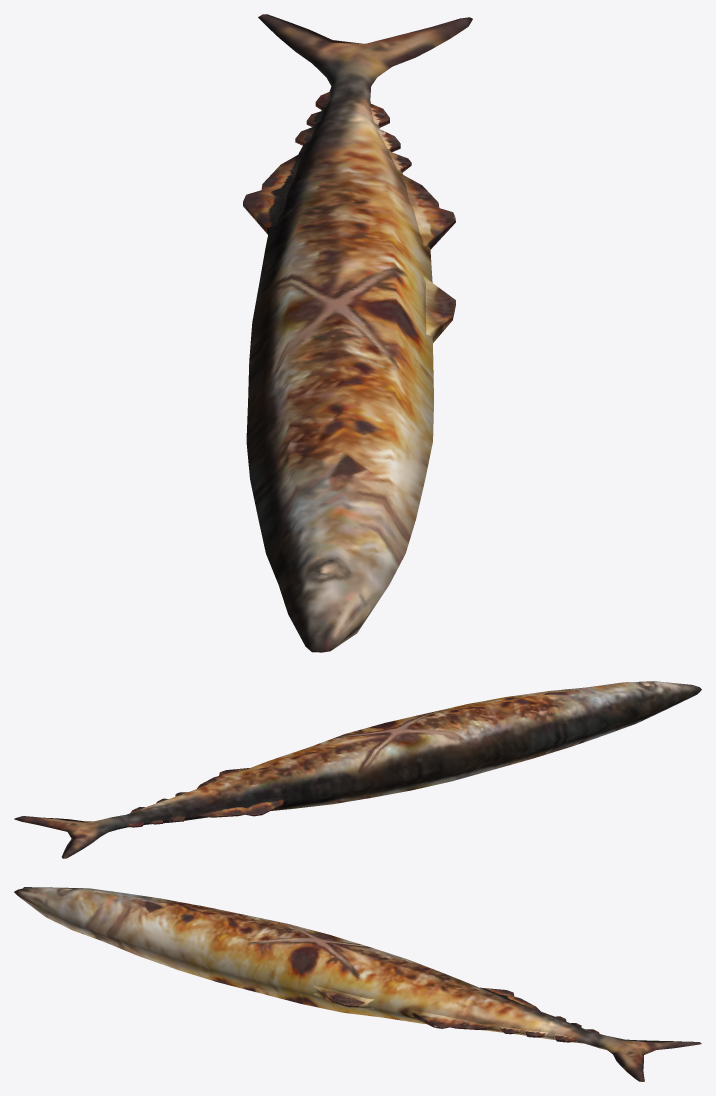
The model's file is ref_grilledfish2.glb.
3 views of the same model, one above another, from view 1: azimuth 30°, elevation 25°; view 2: azimuth 150°, elevation 25°; view 3: azimuth 270°, elevation 25° (orthographic). The views are drawn at different scales.
Parts seen in each view (by area): view 1: ref_grilledfish2_part0; view 2: ref_grilledfish2_part0; view 3: ref_grilledfish2_part0.
Boxes of the visible parts, <box> form: ref_grilledfish2_part0: <box>243,14,472,652</box>; ref_grilledfish2_part0: <box>14,681,701,858</box>; ref_grilledfish2_part0: <box>14,887,701,1081</box>.
Size of the model in its own units: 0.6634 by 0.0965 by 1.
Materials: 1 (1 with a texture image).
